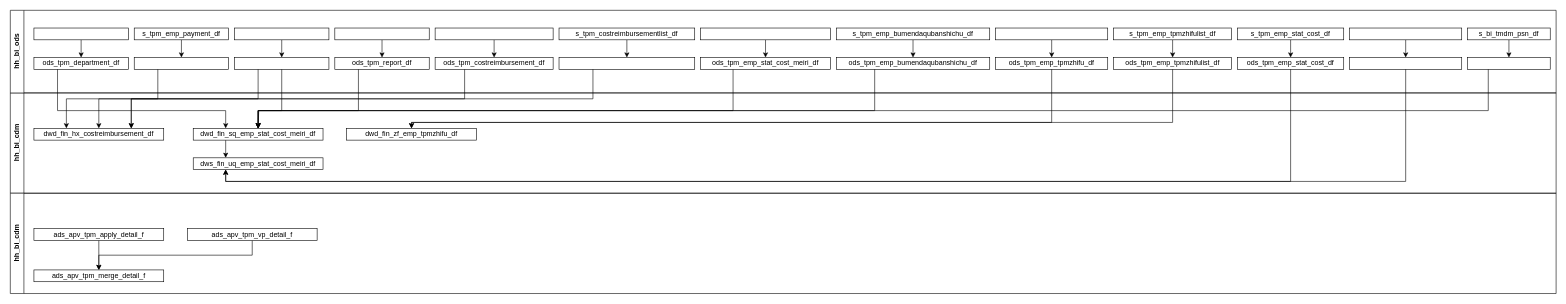
Some shapes in this 1566 by 304 pixel diagram are drawn without their labels. The centre of each missing label's shape, as x and y in pixels:
"ods_bi_tmdm_psn_df" goes at pixel 1508 63.
"ods_tpm_costreimbursementlist_df" goes at pixel 626 63.
"ods_tpm_emp_bizhongguanli_f" goes at pixel 1405 63.
"ods_tpm_emp_payment_df" goes at pixel 181 63.
"ods_tpm_emp_supplies_df" goes at pixel 281 63.
"s_tpm_costreimbursement_df" goes at pixel 494 33.
"s_tpm_department_df" goes at pixel 80 33.
"s_tpm_emp_bizhongguanli_f" goes at pixel 1405 33.
"s_tpm_emp_stat_cost_meiri_df" goes at pixel 765 33.
"s_tpm_emp_supplies_df" goes at pixel 281 33.
"s_tpm_emp_tpmzhifu_df" goes at pixel 1051 33.
"s_tpm_report_df" goes at pixel 381 33.
